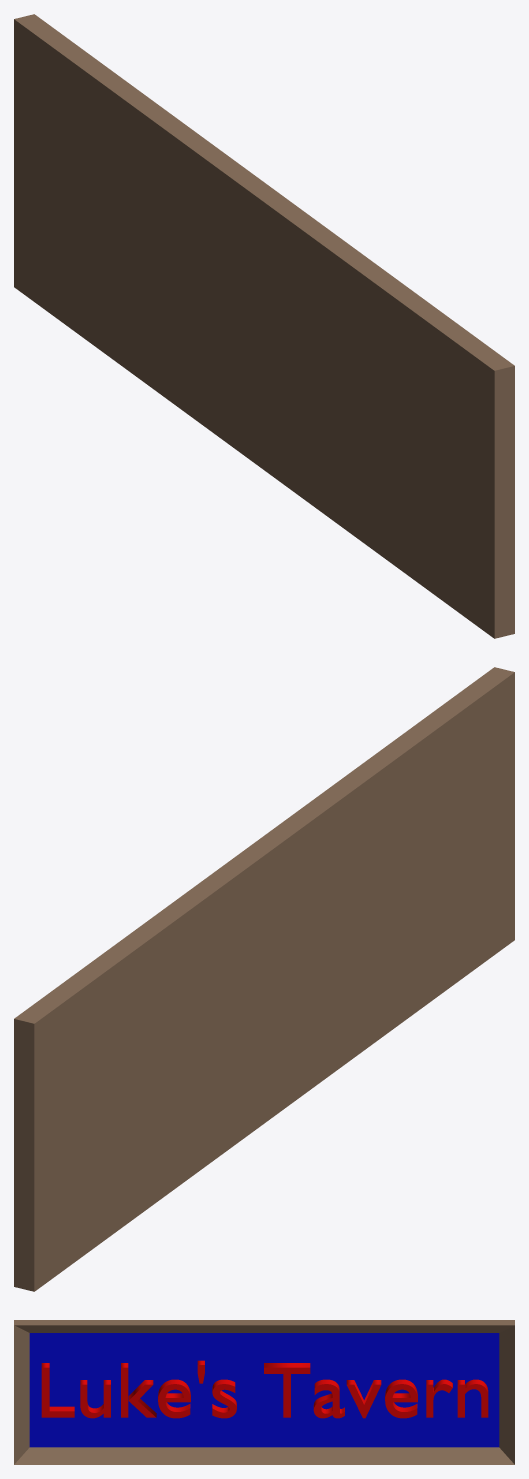
The model's file is WF_LukesTavern.fbx.
The picture shows the model from 3 angles, top to bottom: view 1: azimuth 30°, elevation 25°; view 2: azimuth 150°, elevation 25°; view 3: azimuth 270°, elevation 25°; orthographic projection. The views are drawn at different scales.
Visible parts, largest first — view 1: Lukes Tavern; view 2: Lukes Tavern; view 3: Lukes Tavern, Text.008.
Part boxes in pixels (box(x1,y1,x2,y2)): Lukes Tavern: box(14, 14, 514, 638); Lukes Tavern: box(14, 667, 514, 1291); Lukes Tavern: box(14, 1320, 514, 1464); Text.008: box(41, 1360, 488, 1418).
Size of the model in its own units: 17.78 by 200 by 650.
